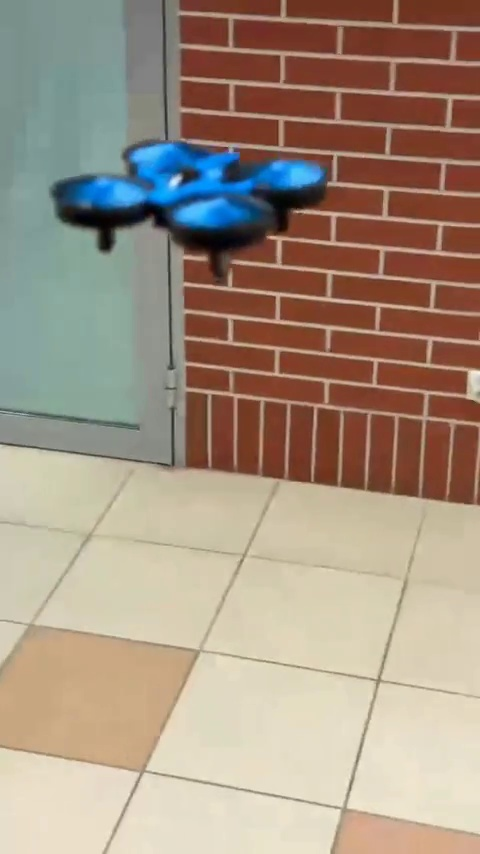drone: (53, 130, 333, 268)
